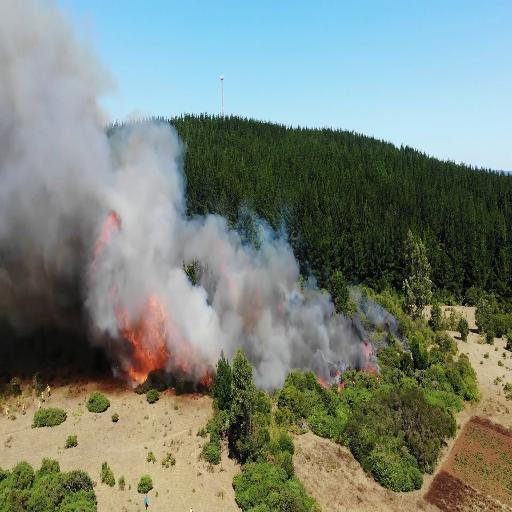fire: (118, 288, 217, 390), (309, 349, 392, 396), (83, 204, 128, 286), (243, 287, 287, 335)
smoke: (0, 0, 102, 325), (111, 131, 216, 371), (223, 233, 372, 376)
